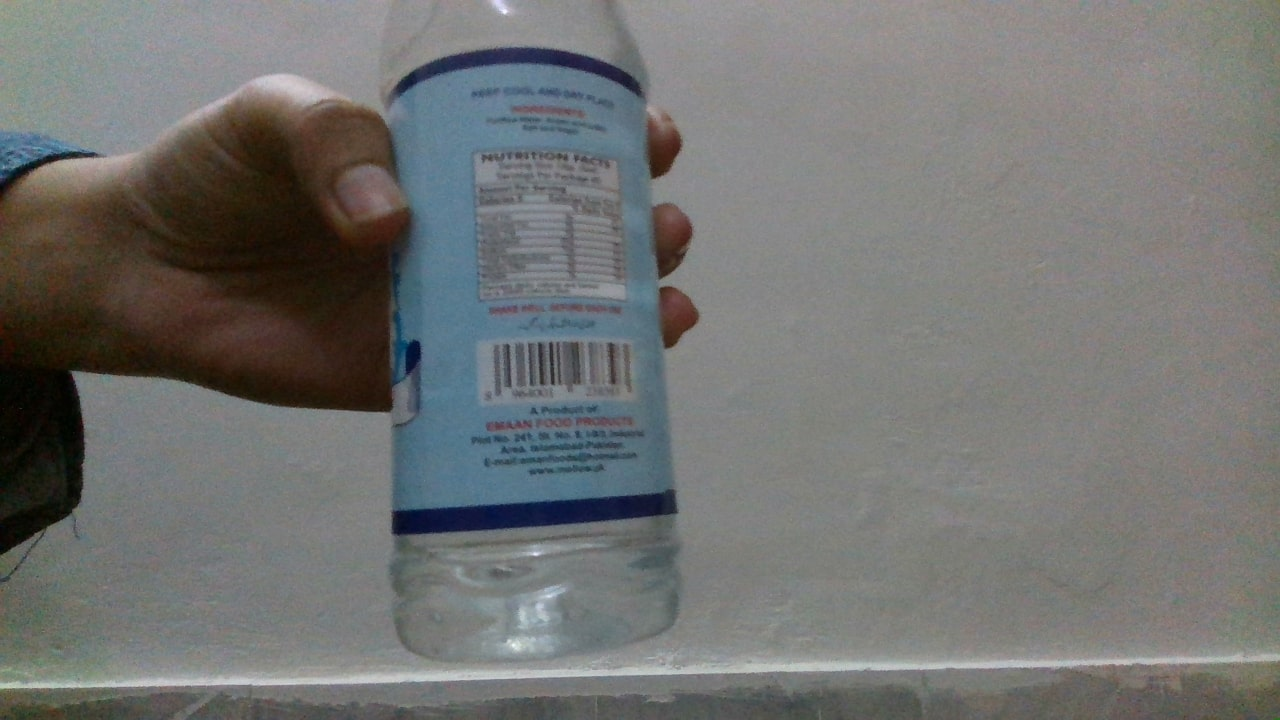Barcode: (490, 338, 634, 399)
